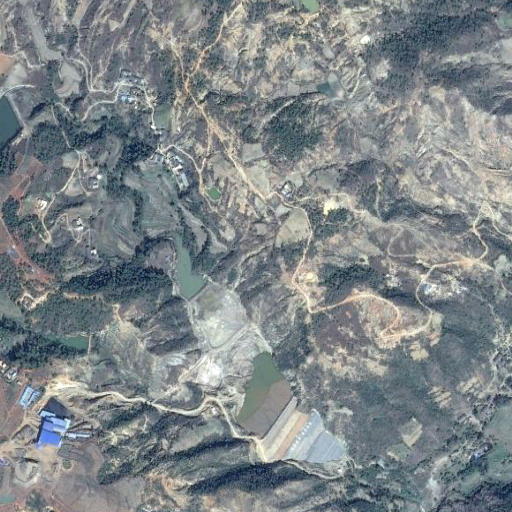tp: (166, 233, 346, 466)
